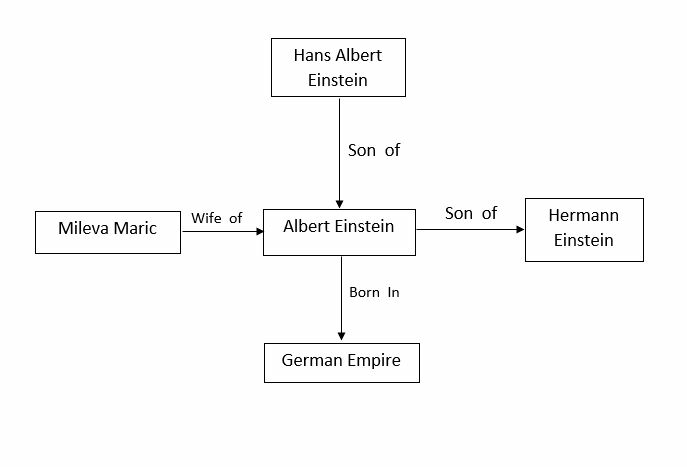arrow: (334, 93, 346, 209), (415, 224, 526, 234), (180, 226, 263, 238), (337, 256, 346, 343)
process: (268, 35, 409, 100), (521, 195, 646, 264), (260, 207, 419, 258), (261, 340, 421, 385), (33, 209, 184, 256)
text: (292, 46, 382, 89), (548, 206, 619, 250), (279, 350, 403, 370), (57, 217, 158, 239), (282, 216, 396, 234), (189, 208, 246, 226), (445, 204, 501, 221), (346, 142, 403, 158), (346, 284, 402, 299)
